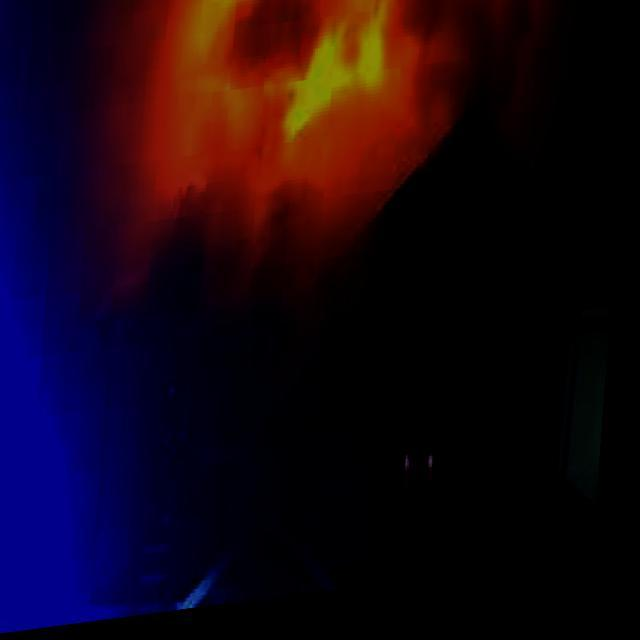Fire: (63, 0, 480, 327)
